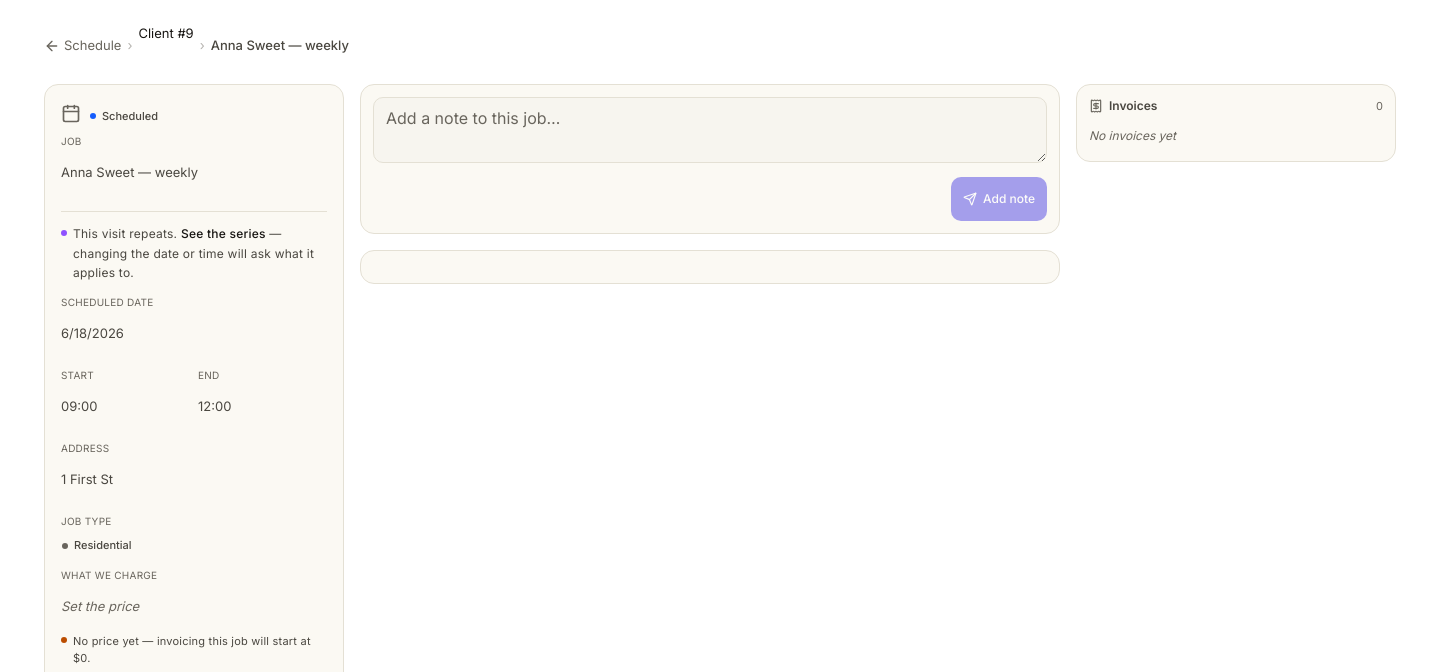
Test: JobDetail — a visit that belongs to a series › asks what a date change applies to instead of patching the job
This screenshot has width=1440, height=672.
Expected: the text "This visit repeats" is shown, [73, 226, 177, 241]
Click the button "6/18/2026": (92, 333) [57, 312, 323, 356]
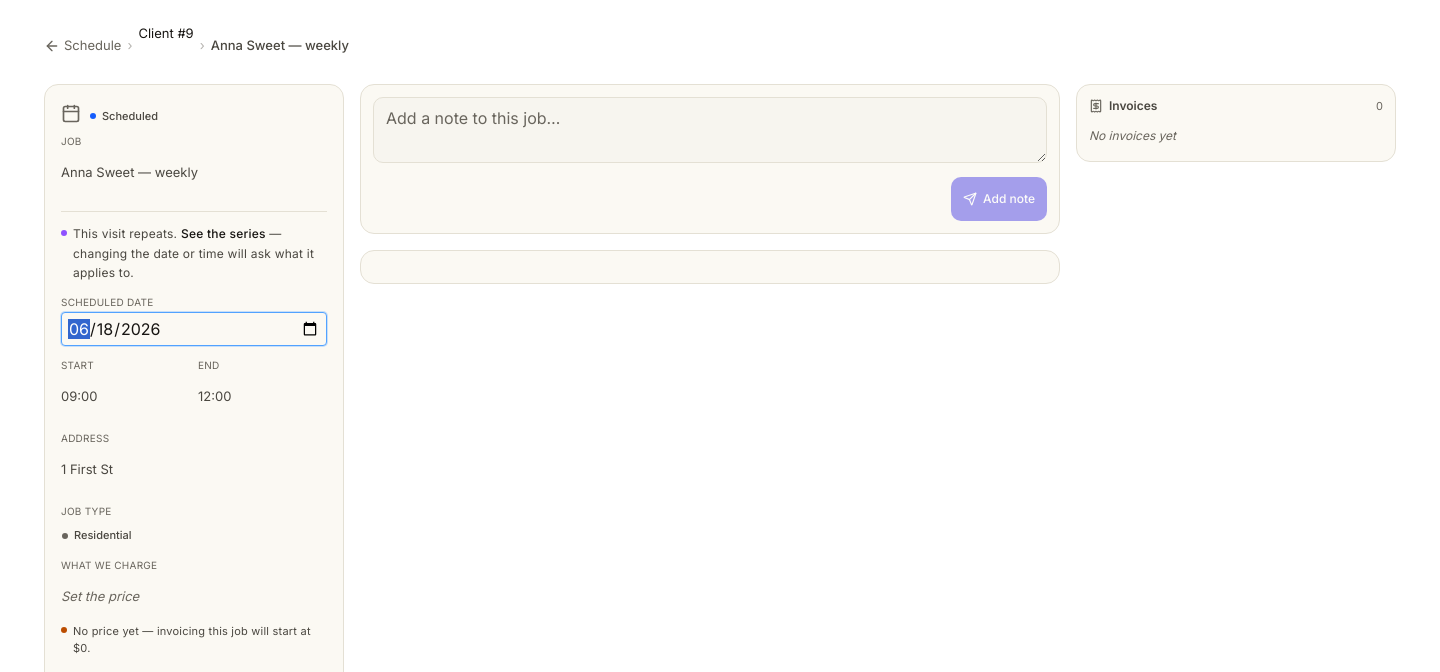
In the date field: (194, 328) [61, 312, 327, 346], type "2026-06-25"
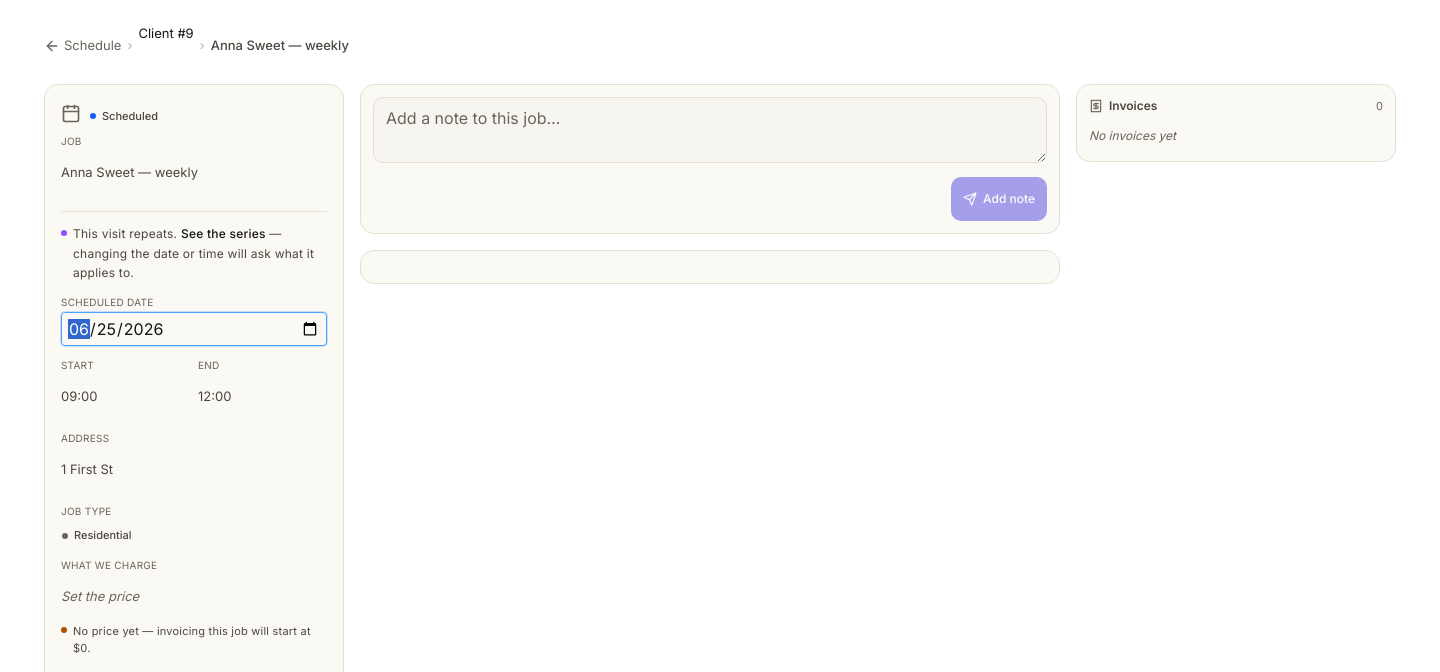
Leave the date field, box [61, 312, 327, 346]
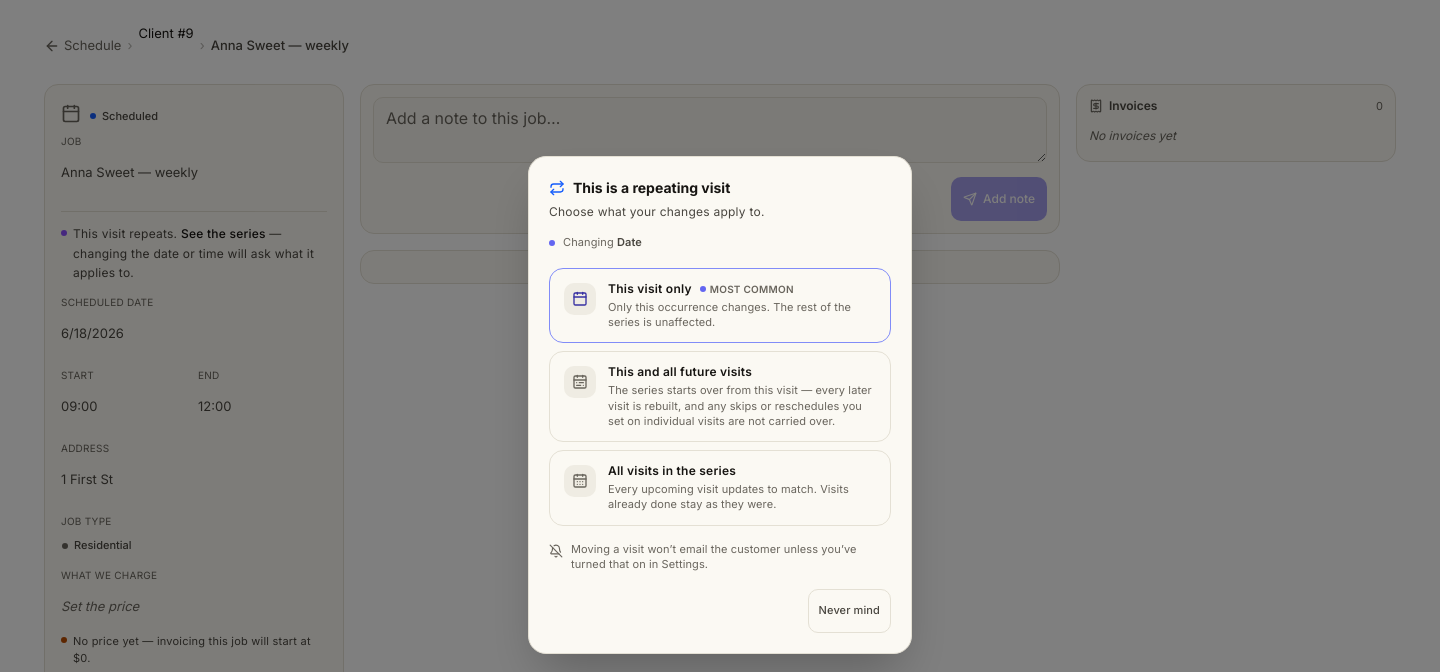
Now the heading "This is a repeating visit" is shown, box [573, 177, 730, 198]
